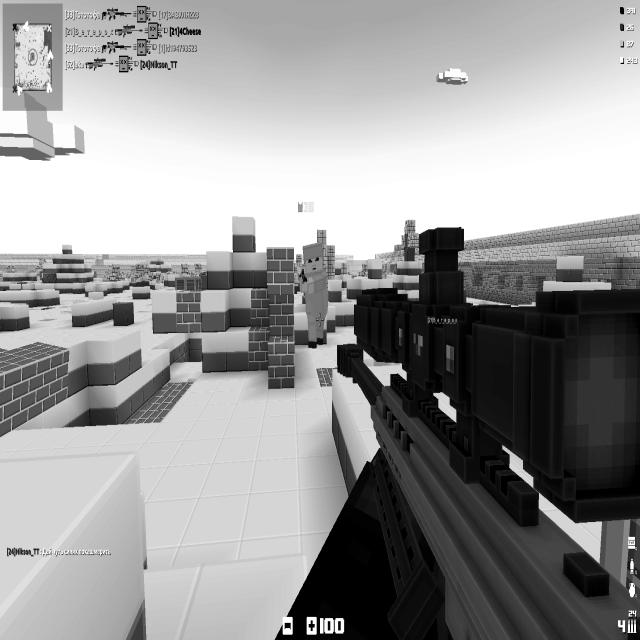Head: (304, 244, 324, 273)
Player: (299, 243, 328, 348)
